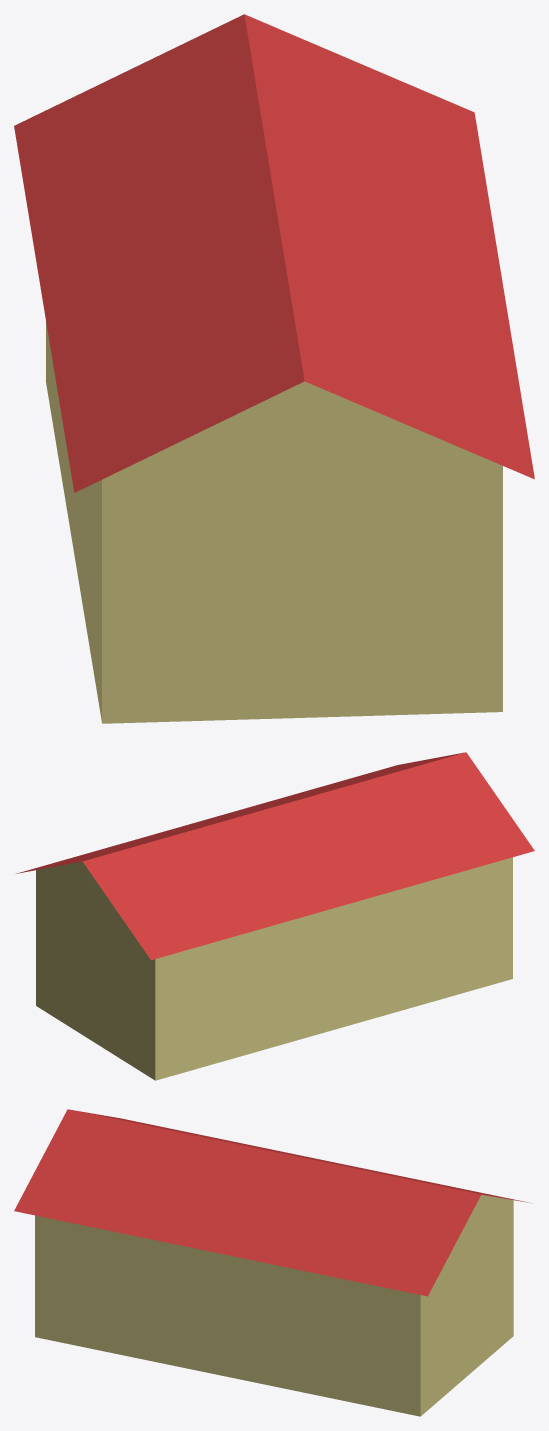
3 views of the same model, one above another, from view 1: azimuth 30°, elevation 25°; view 2: azimuth 150°, elevation 25°; view 3: azimuth 270°, elevation 25° (orthographic). The views are drawn at different scales.
Parts seen in each view (by area): view 1: group_3, group_5, group_4; view 2: group_5, group_3, group_4; view 3: group_5, group_3, group_4.
Boxes of the visible parts, bbox=[...] form: group_3: bbox=[14, 14, 520, 492]; group_5: bbox=[46, 322, 502, 723]; group_4: bbox=[57, 14, 534, 479]; group_5: bbox=[36, 857, 512, 1080]; group_3: bbox=[37, 752, 534, 960]; group_4: bbox=[16, 752, 477, 873]; group_5: bbox=[35, 1194, 513, 1416]; group_3: bbox=[35, 1109, 531, 1280]; group_4: bbox=[14, 1110, 480, 1296].
Size of the model in its own units: 19.96 by 24.68 by 9.65.
